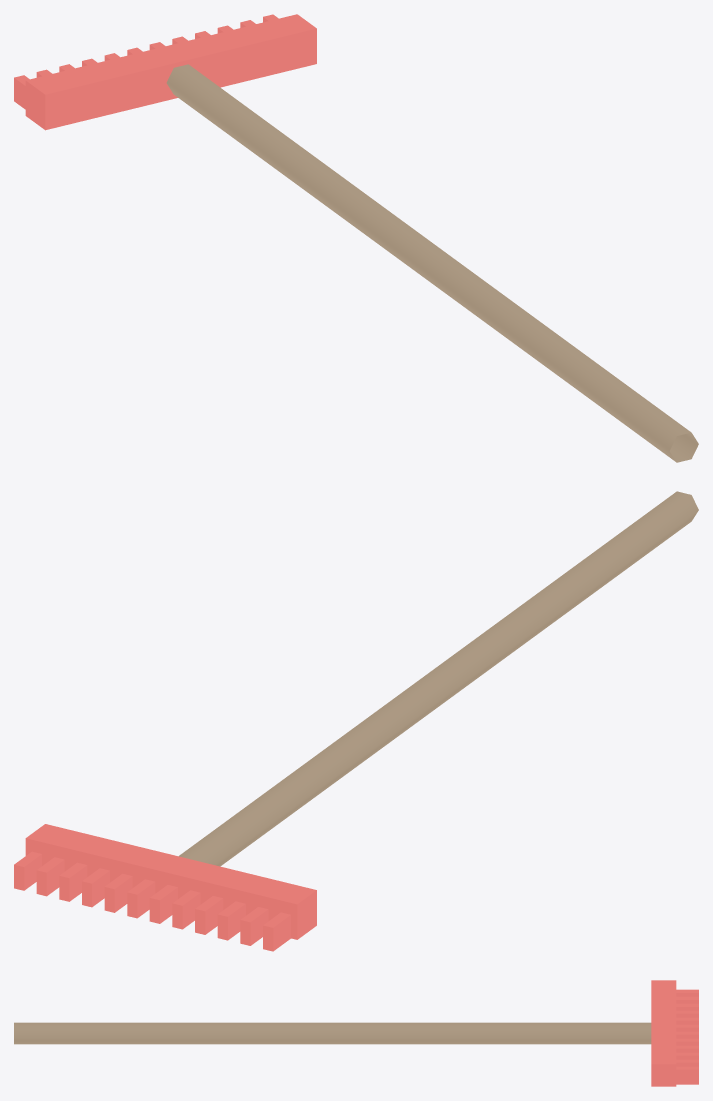
File: Blender_Rake_1.glb
3 renders of one model, top to bottom at view 1: azimuth 30°, elevation 25°; view 2: azimuth 150°, elevation 25°; view 3: azimuth 270°, elevation 25°, orthographic. The views are drawn at different scales.
Visible parts, largest first — view 1: Blender_Rake_1; view 2: Blender_Rake_1; view 3: Blender_Rake_1.
Boxes of the visible parts, x1=… form: Blender_Rake_1: x1=14, y1=14, x2=698, y2=462; Blender_Rake_1: x1=14, y1=491, x2=698, y2=951; Blender_Rake_1: x1=14, y1=980, x2=698, y2=1086.
Size of the model in its own units: 0.48 by 0.06 by 1.66.
